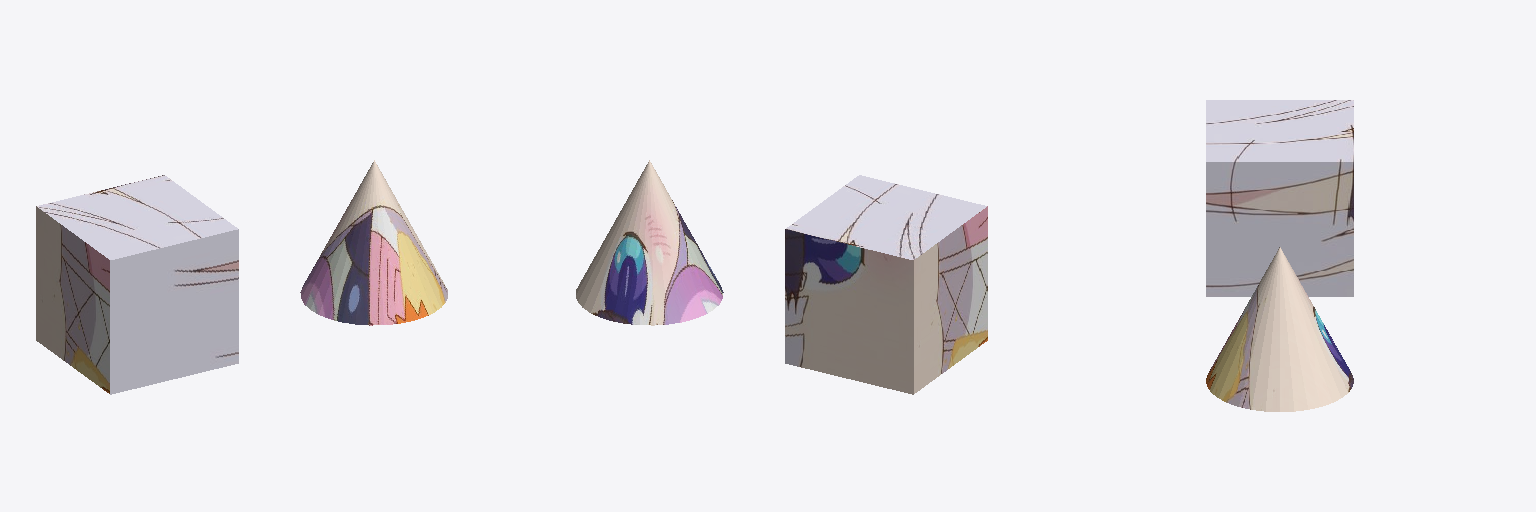
3 renders of one model, left to right at view 1: azimuth 30°, elevation 25°; view 2: azimuth 150°, elevation 25°; view 3: azimuth 270°, elevation 25°, orthographic.
Visible parts, largest first — view 1: Cube, Cone; view 2: Cube, Cone; view 3: Cube, Cone.
Boxes of the visible parts, x1=… form: Cube: x1=36, y1=175, x2=238, y2=394; Cone: x1=300, y1=160, x2=447, y2=325; Cube: x1=785, y1=175, x2=987, y2=394; Cone: x1=576, y1=160, x2=723, y2=325; Cube: x1=1206, y1=100, x2=1353, y2=296; Cone: x1=1206, y1=247, x2=1353, y2=411.
Bounding box in the file's own units: 5.69 × 2 × 2.
1 materials, 1 textured.